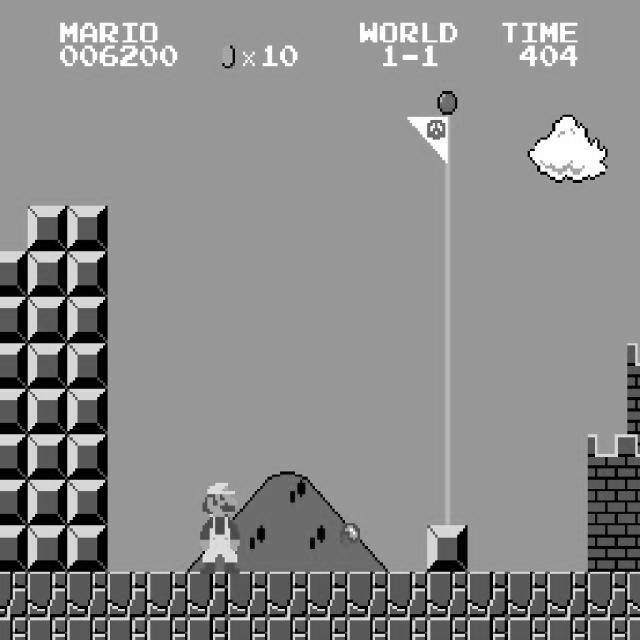17- undestructible_block: (27, 572, 68, 618), (67, 572, 108, 618), (107, 572, 148, 618), (147, 572, 188, 618), (187, 572, 228, 618), (227, 572, 268, 618), (267, 572, 308, 618), (307, 572, 348, 618), (347, 572, 388, 618), (387, 572, 428, 618), (427, 572, 468, 618), (467, 572, 508, 618), (507, 572, 548, 618), (547, 572, 588, 618), (587, 572, 628, 618), (0, 572, 28, 618), (27, 617, 68, 640), (67, 617, 108, 640), (107, 617, 148, 640), (147, 617, 188, 640), (187, 617, 228, 640), (227, 617, 268, 640), (267, 617, 308, 640), (307, 617, 348, 640), (347, 617, 388, 640), (387, 617, 428, 640), (427, 617, 468, 640), (467, 617, 508, 640), (507, 617, 548, 640), (547, 617, 588, 640), (587, 617, 628, 640), (0, 617, 28, 640), (627, 572, 640, 618), (627, 617, 640, 640)
4- fire_mario: (197, 480, 240, 574)
5- fireball: (340, 520, 360, 546)
7- goal_pole: (427, 68, 468, 114), (427, 114, 468, 160), (427, 160, 468, 206), (427, 252, 468, 298), (427, 297, 468, 343), (427, 388, 468, 434), (427, 434, 468, 480), (427, 480, 468, 526), (427, 206, 468, 251), (427, 343, 468, 388)
9- hard_block: (27, 252, 68, 298), (27, 297, 68, 343), (27, 388, 68, 434), (27, 434, 68, 480), (27, 480, 68, 526), (27, 526, 68, 572), (67, 252, 108, 298), (67, 297, 108, 343), (67, 388, 108, 434), (67, 434, 108, 480), (67, 480, 108, 526), (67, 526, 108, 572), (427, 526, 468, 572), (27, 206, 68, 251), (27, 343, 68, 388), (67, 206, 108, 251), (67, 343, 108, 388), (0, 252, 28, 298), (0, 297, 28, 343), (0, 388, 28, 434), (0, 434, 28, 480), (0, 480, 28, 526), (0, 526, 28, 572), (0, 343, 28, 388)
